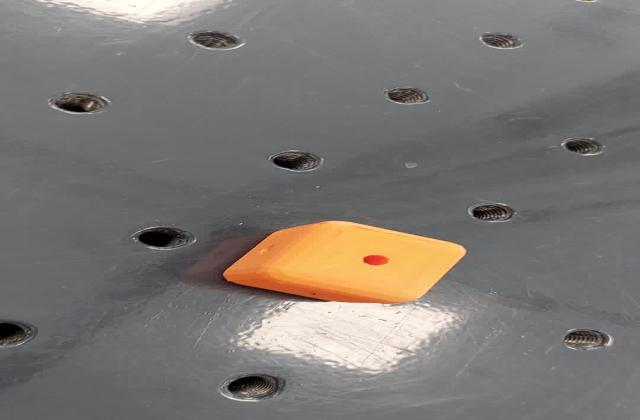cube: (220, 220, 470, 308)
